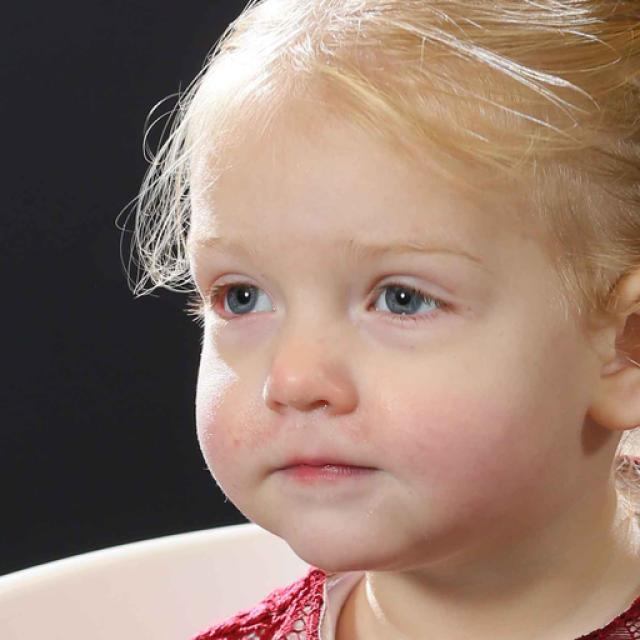neutral: (182, 99, 590, 574)
